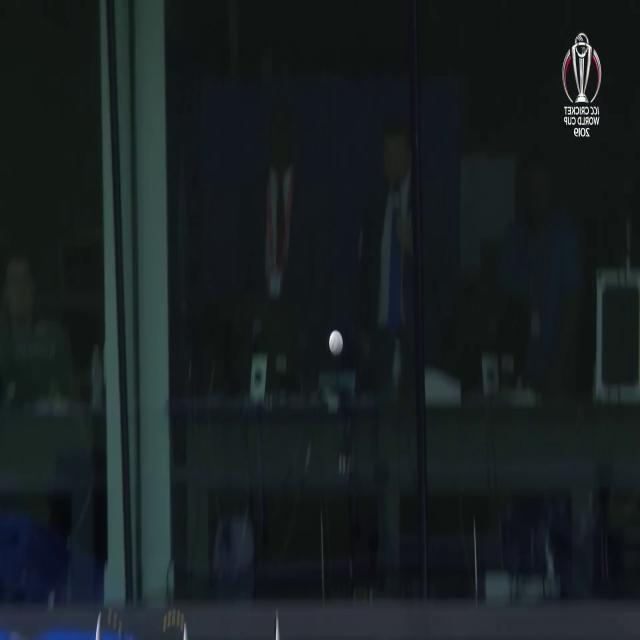ball: (323, 321, 347, 362)
